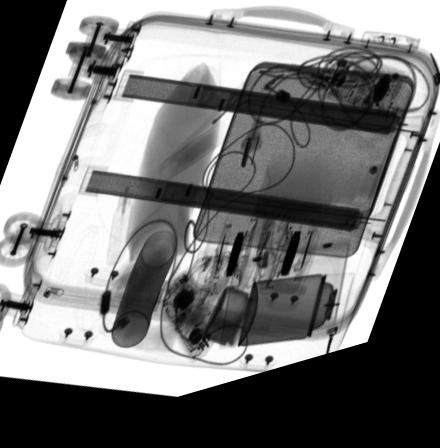Sprayer: (236, 292, 353, 360)
